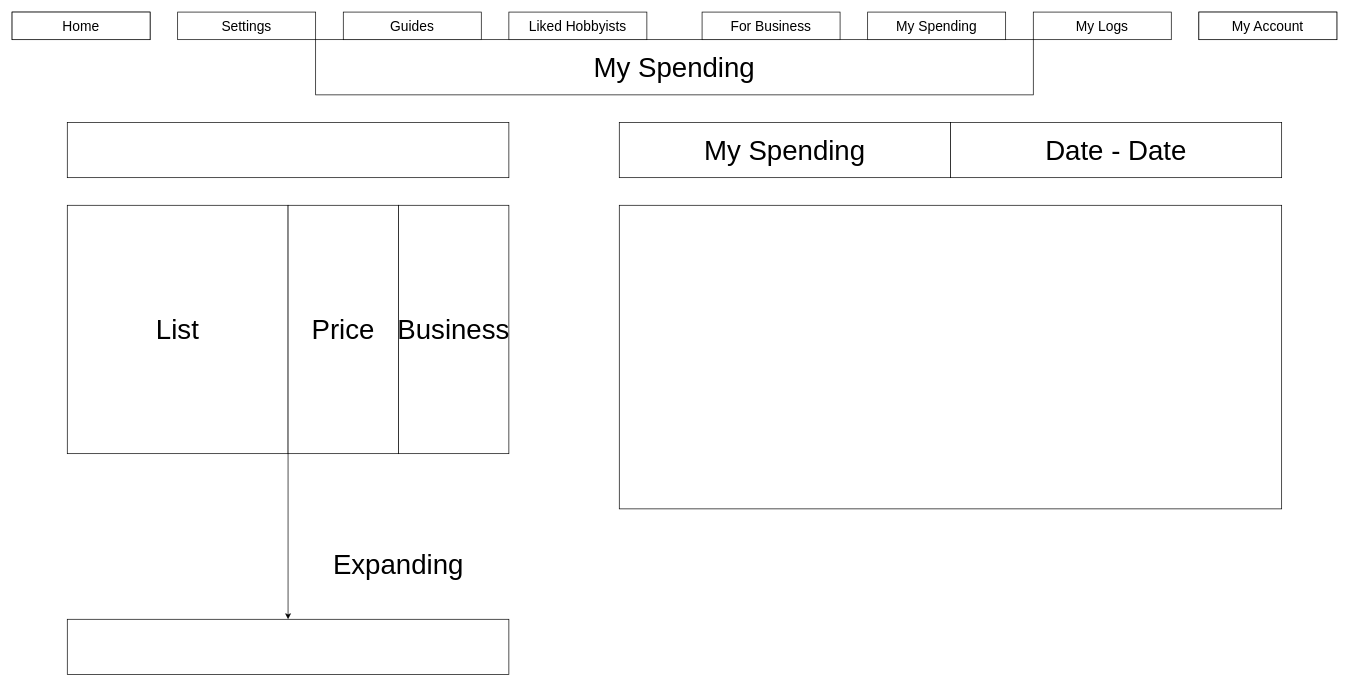
The diagram is 1349 pixels wide and 687 high, and some of its shapes have lost their labels. The shapes that lost their labels are listed below. From the top down, each one's box as (x1, y1, x2, y2) in pixels, then its label:
(67, 122, 509, 178): Project - Drop Down
(619, 205, 1282, 509): Graph (Likely Pie chart but bar graph preferable)
(67, 619, 509, 674): Budget Left
